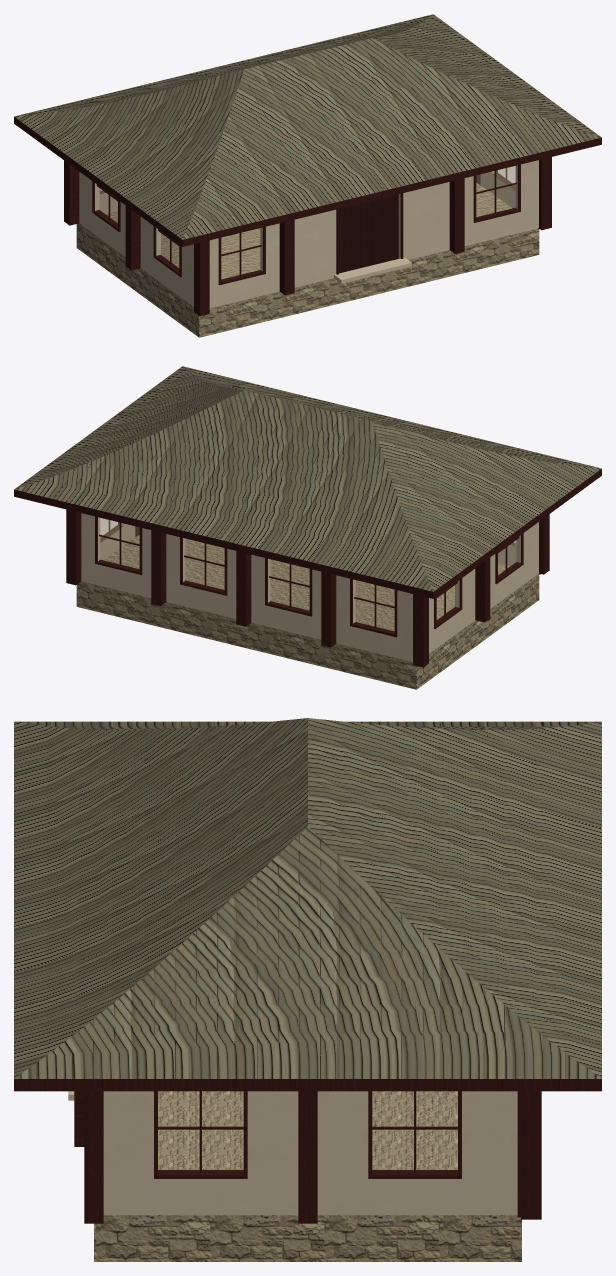
The model's file is chinese_hall_01.glb.
The picture shows the model from 3 angles, top to bottom: view 1: azimuth 30°, elevation 25°; view 2: azimuth 150°, elevation 25°; view 3: azimuth 270°, elevation 25°; orthographic projection. The views are drawn at different scales.
Parts seen in each view (by area): view 1: chinese_hall_01; view 2: chinese_hall_01; view 3: chinese_hall_01.
Boxes of the visible parts, box(x1,y1,x2,y2) form: chinese_hall_01: box(14, 14, 601, 337); chinese_hall_01: box(14, 366, 601, 689); chinese_hall_01: box(14, 718, 601, 1261).
Size of the model in its own units: 14.8 by 6.67 by 10.3.
Materials: 6 (5 with a texture image).
